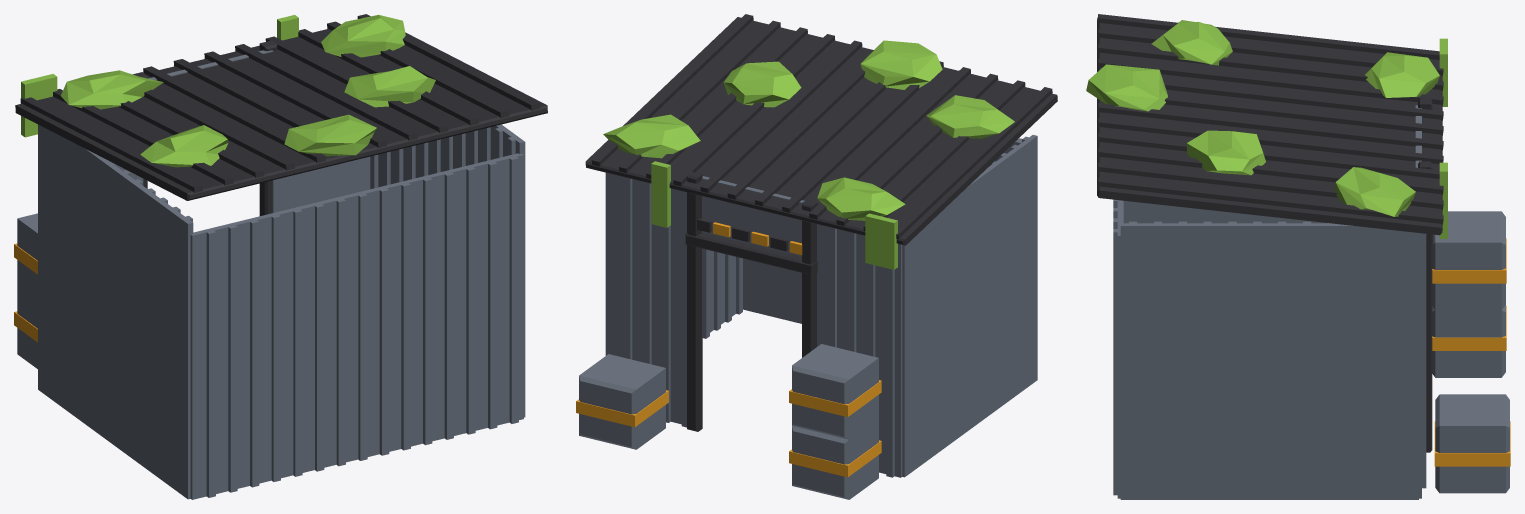
Rendered from SEWER_SHACK.glb.
3 renders of one model, left to right at view 1: azimuth 30°, elevation 25°; view 2: azimuth 150°, elevation 25°; view 3: azimuth 270°, elevation 25°, orthographic. The views are drawn at different scales.
Parts seen in each view (by area): view 1: StoneDark, PropCharcoal, Moss, Hazard; view 2: StoneDark, PropCharcoal, Moss, Hazard; view 3: StoneDark, PropCharcoal, Moss, Hazard.
Boxes of the visible parts, x1,y1,x2,y2 form: StoneDark: (17,50,525,499); PropCharcoal: (15,14,547,215); Moss: (21,14,435,167); Hazard: (14,243,37,342); StoneDark: (579,135,1037,499); PropCharcoal: (585,14,1057,431); Moss: (603,40,1014,269); Hazard: (576,222,881,477); StoneDark: (1113,105,1509,499); PropCharcoal: (1097,14,1443,452); Moss: (1086,20,1447,238); Hazard: (1432,238,1510,466).
Bounding box in the file's own units: 7.88 × 6.91 × 8.
